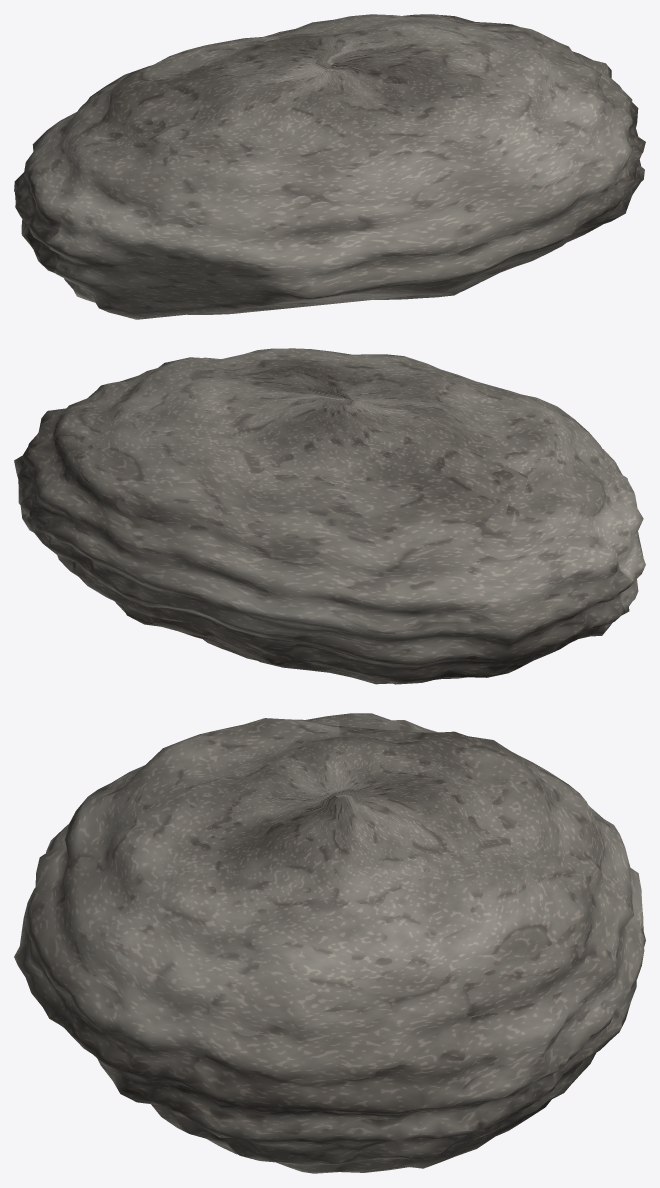
Rendered from PZ_R03_Low_Sediment_Slab_Granite.glb.
3 renders of one model, top to bottom at view 1: azimuth 30°, elevation 25°; view 2: azimuth 150°, elevation 25°; view 3: azimuth 270°, elevation 25°, orthographic. The views are drawn at different scales.
Parts seen in each view (by area): view 1: RENDER_R03_Low_Sediment_Slab_Granite; view 2: RENDER_R03_Low_Sediment_Slab_Granite; view 3: RENDER_R03_Low_Sediment_Slab_Granite.
Boxes of the visible parts, x1,y1,x2,y2 form: RENDER_R03_Low_Sediment_Slab_Granite: [14, 14, 645, 319]; RENDER_R03_Low_Sediment_Slab_Granite: [14, 348, 645, 684]; RENDER_R03_Low_Sediment_Slab_Granite: [14, 713, 645, 1173].
Bounding box in the file's own units: 0.85 × 0.29 × 0.64.
Materials: 1 (1 with a texture image).
